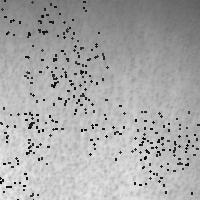pitted_surface: (2, 37, 178, 197), (25, 1, 85, 59), (24, 70, 82, 130), (134, 135, 191, 192), (42, 27, 98, 84), (139, 111, 197, 166), (84, 105, 144, 158), (53, 45, 106, 103), (0, 104, 49, 164), (0, 0, 44, 34), (0, 166, 37, 200)
